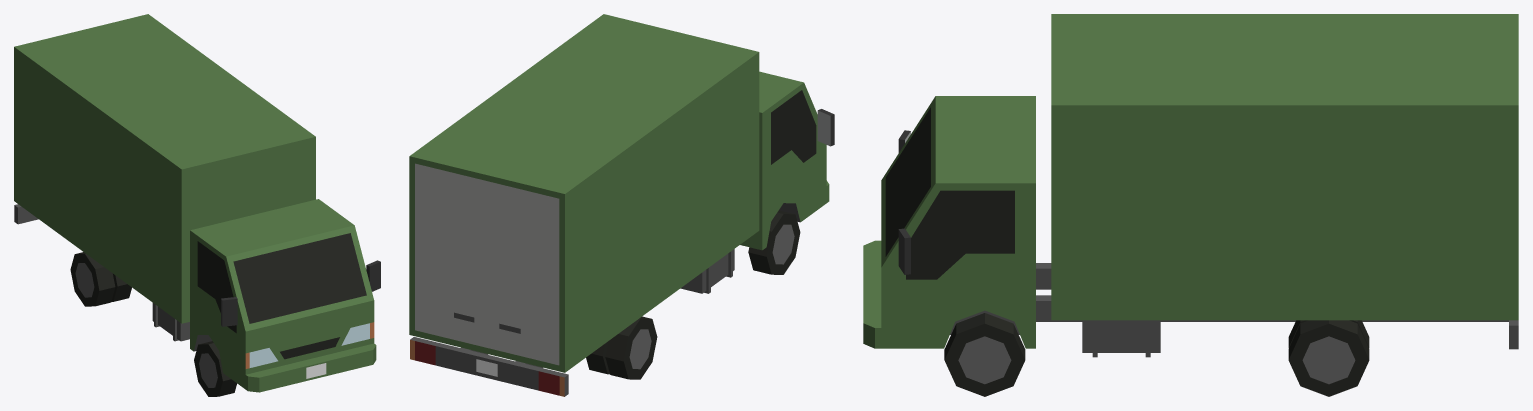
Rendered from Veh_Truck_02_Green.obj.
3 views of the same model, side by side, from view 1: azimuth 30°, elevation 25°; view 2: azimuth 150°, elevation 25°; view 3: azimuth 270°, elevation 25° (orthographic). The views are drawn at different scales.
Bounding box in the file's own units: 1.27 × 1.61 × 3.26.
